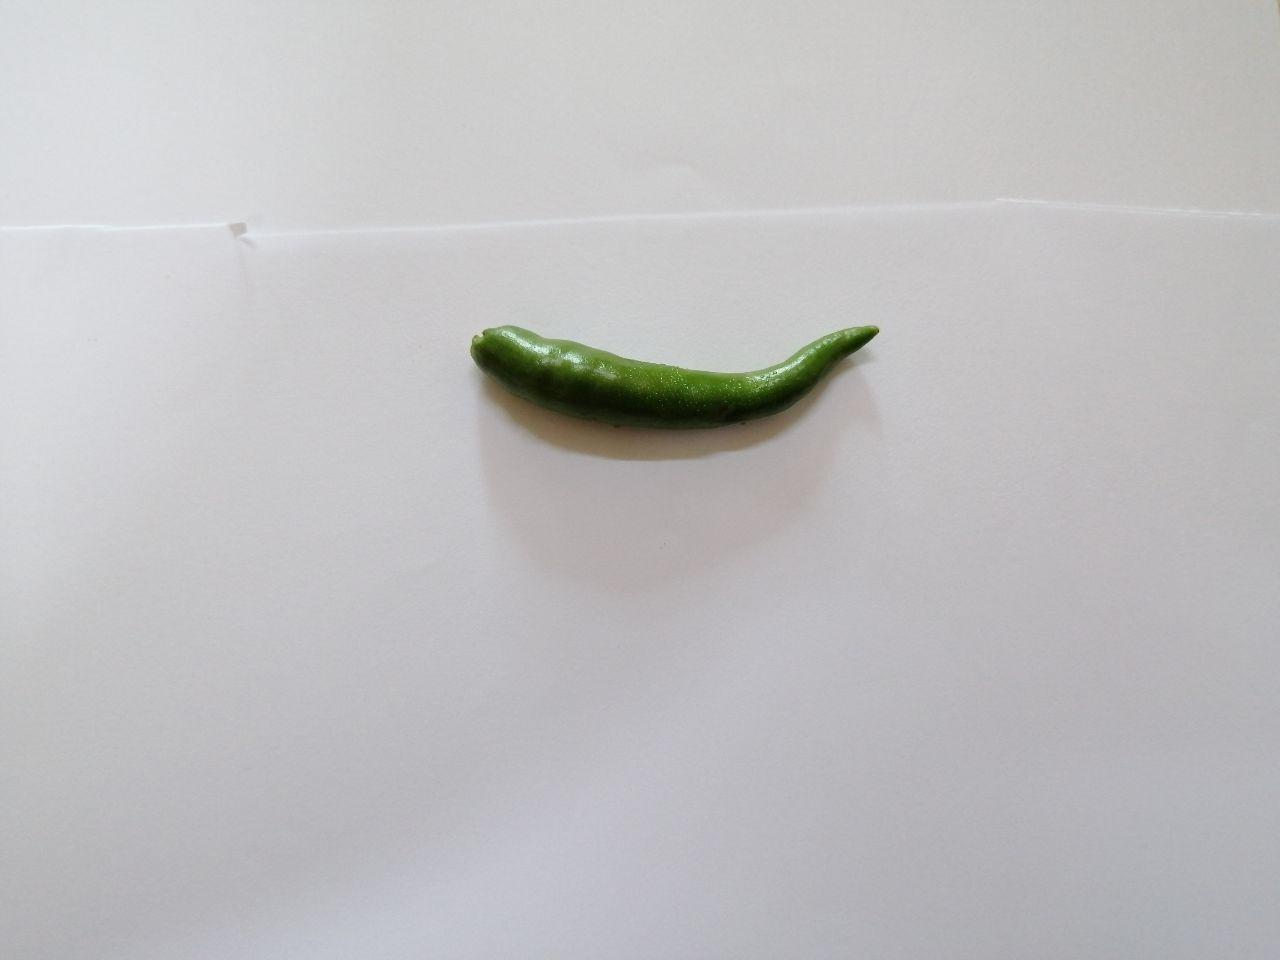lada hijau: (440, 268, 913, 475)
